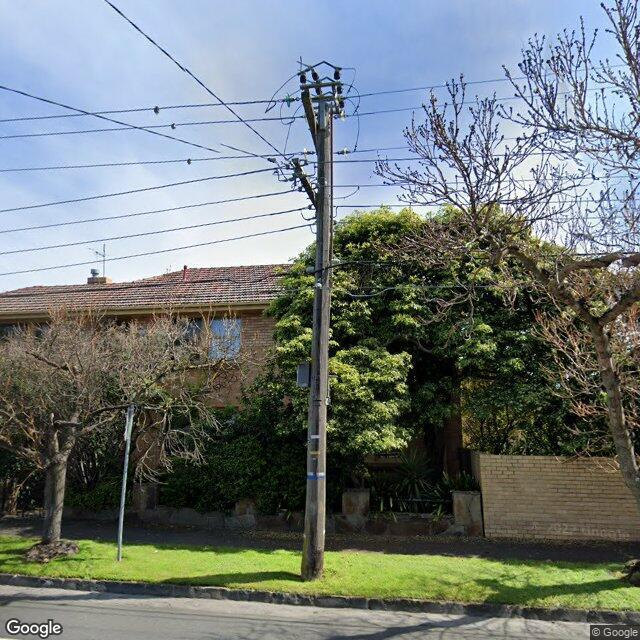HV-switch: (298, 67, 354, 119)
HV-transmission: (284, 90, 361, 156)
crossarm: (292, 156, 318, 213), (301, 91, 319, 156)
timber-pole: (300, 103, 335, 580)
